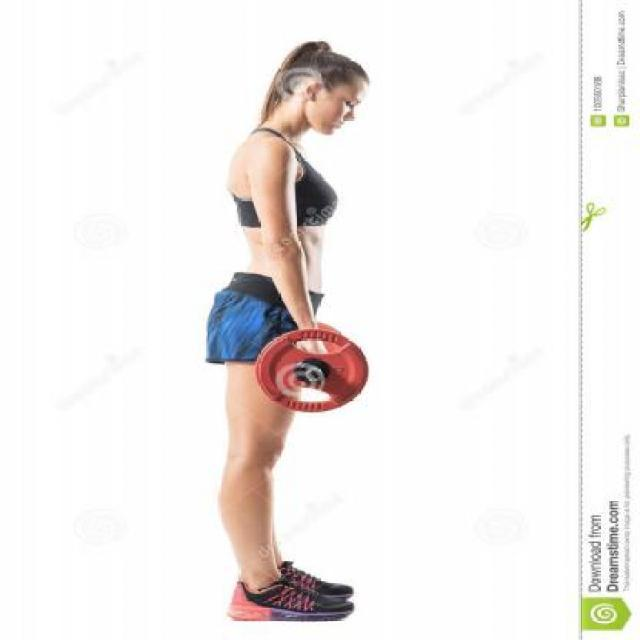Barbell: (286, 360, 336, 388)
